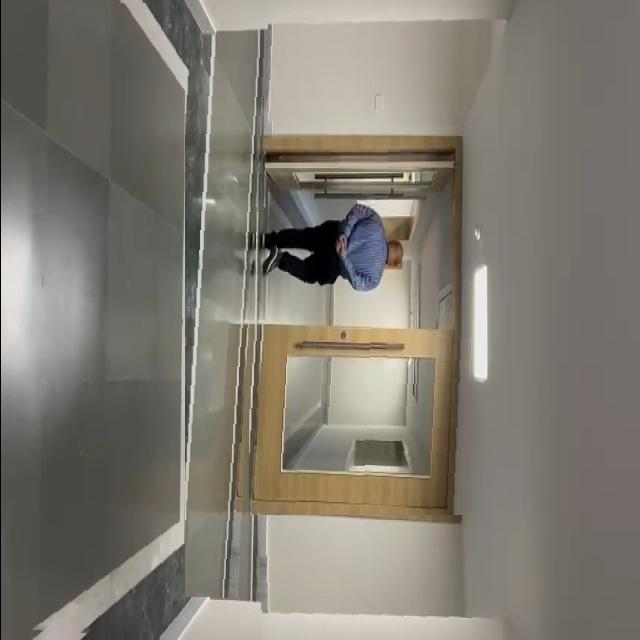door: (248, 326, 472, 515)
floor: (0, 3, 183, 640), (184, 49, 265, 598)
wall: (267, 0, 510, 127), (258, 531, 502, 640)
